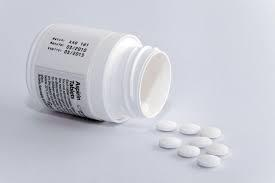jar: (21, 20, 177, 128)
